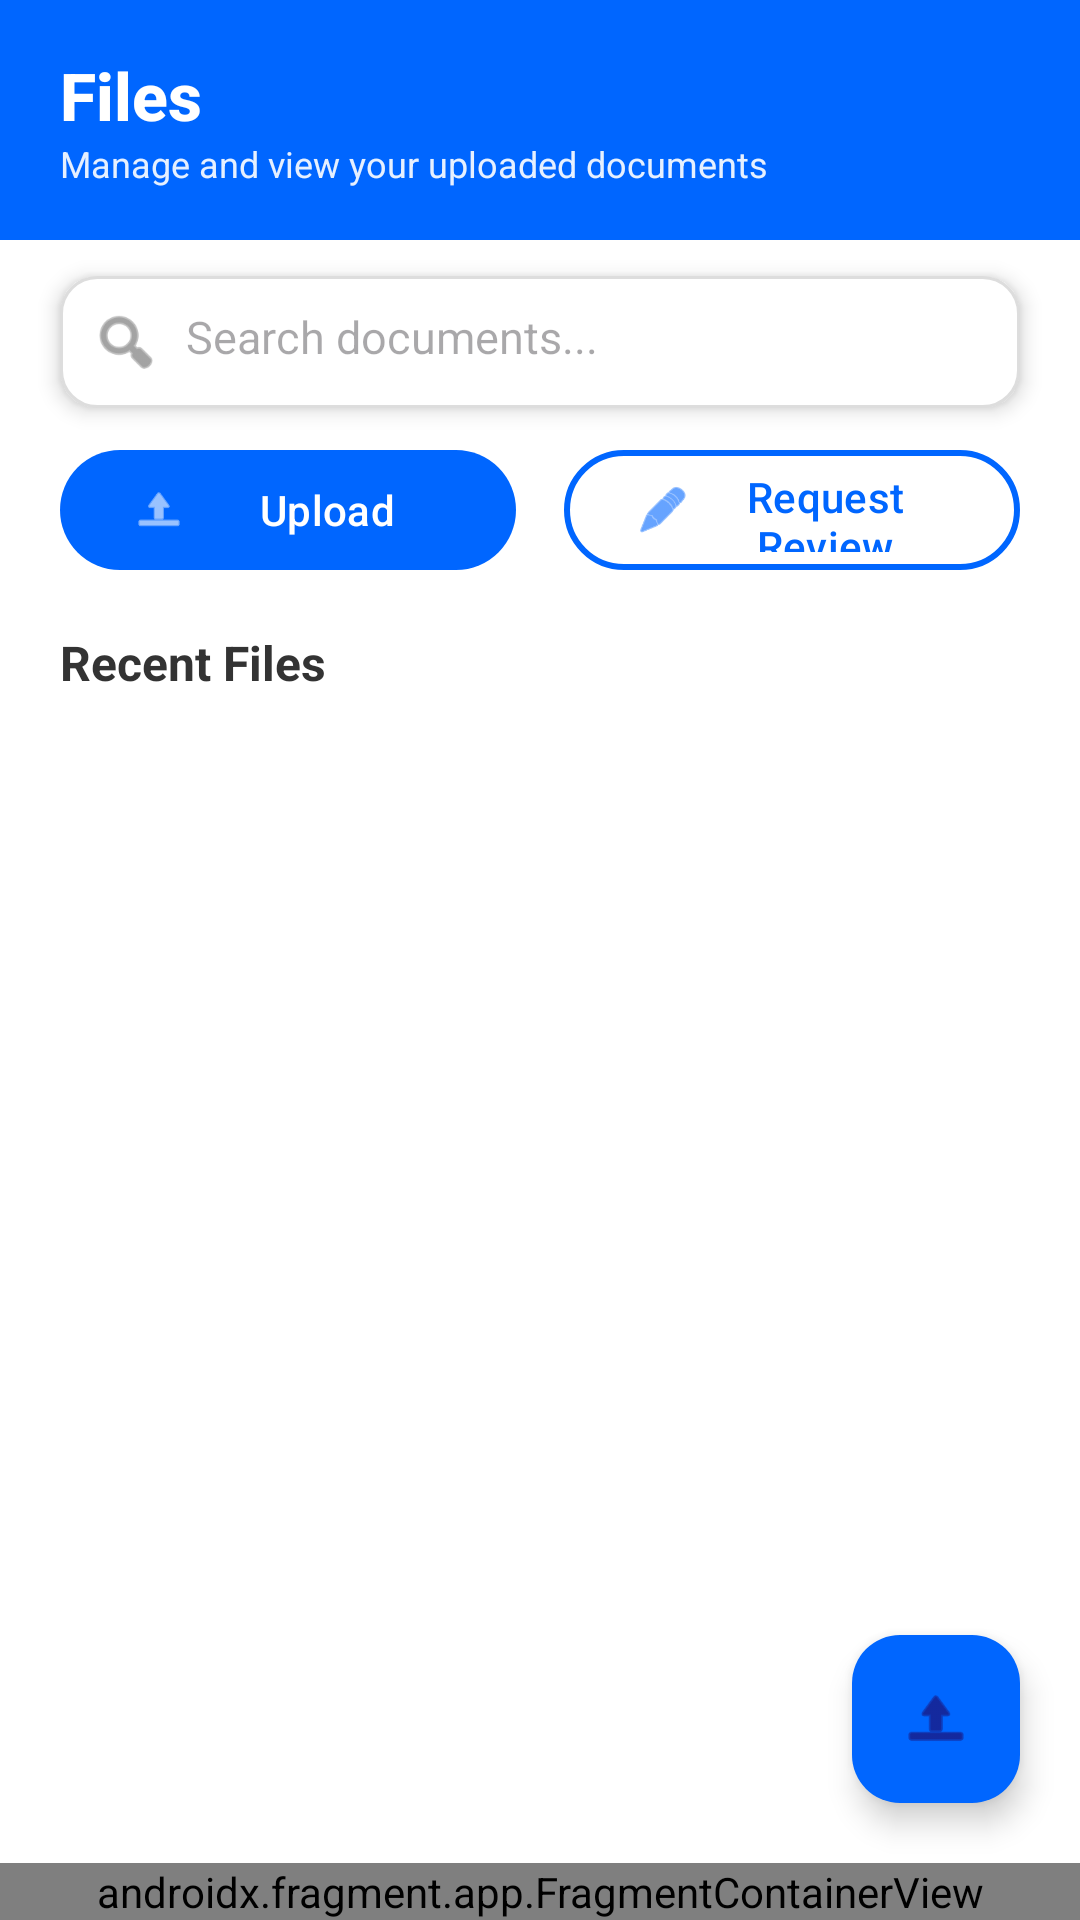

Icons on this 1080*1920 Android screen, each with the point to tap as point (x, y):
Upload file: point (936, 1719)
